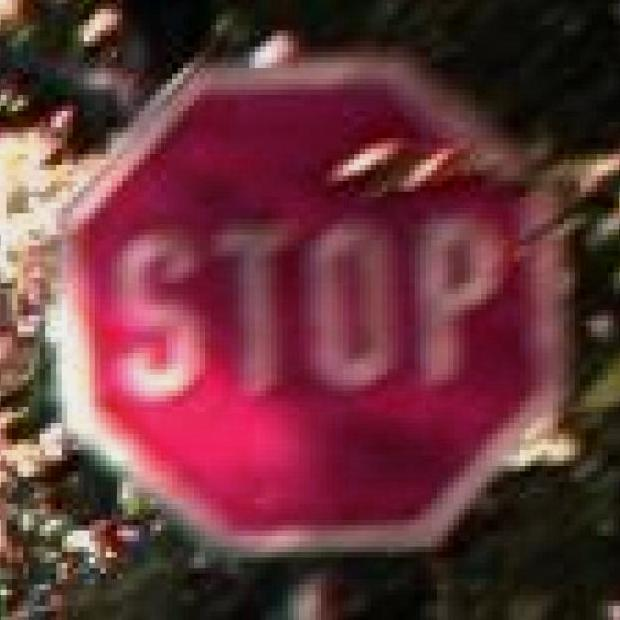stop_sign: (45, 41, 575, 568)
